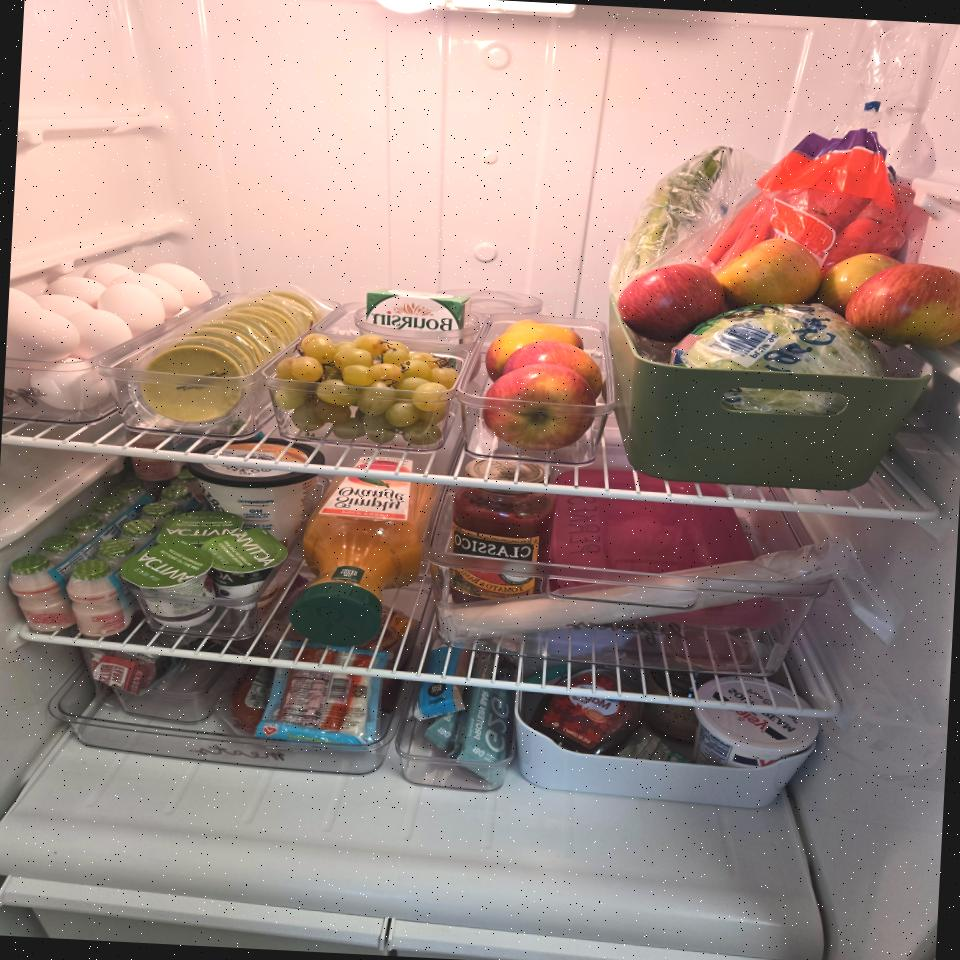Huevos: (4, 254, 214, 418)
Lechuga/Endivia: (668, 296, 895, 421)
Mantequilla: (363, 288, 473, 346)
Manzana: (478, 361, 599, 453), (845, 260, 960, 349), (618, 260, 725, 344), (712, 235, 826, 309), (500, 340, 608, 398), (820, 250, 902, 314), (484, 330, 558, 384), (502, 318, 586, 350)
Yogur: (182, 433, 327, 552), (687, 675, 824, 772)
Zanahoria: (693, 118, 913, 284)
